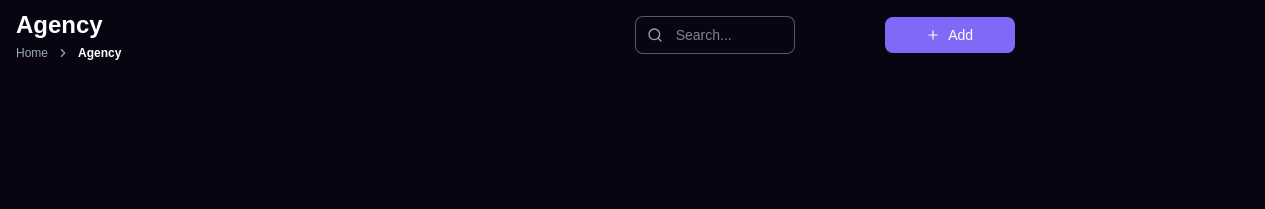
Test: AgencyListTemplate › filters agencies by search
Step 1. Type "Test" into the field with placeholder "Search..." → point(715, 35), box [635, 16, 795, 54]
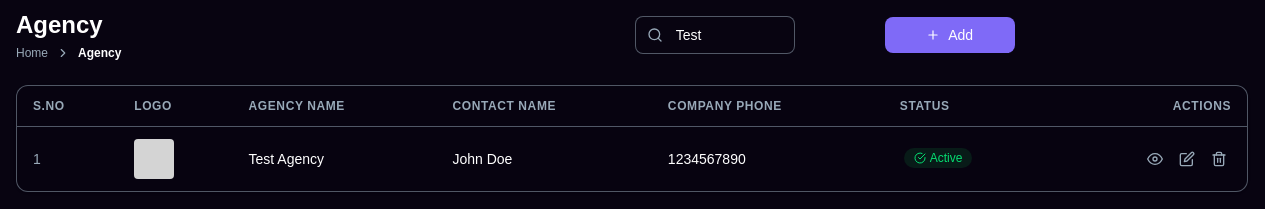
Check: the text "Test Agency" is shown, box [233, 126, 436, 191]
